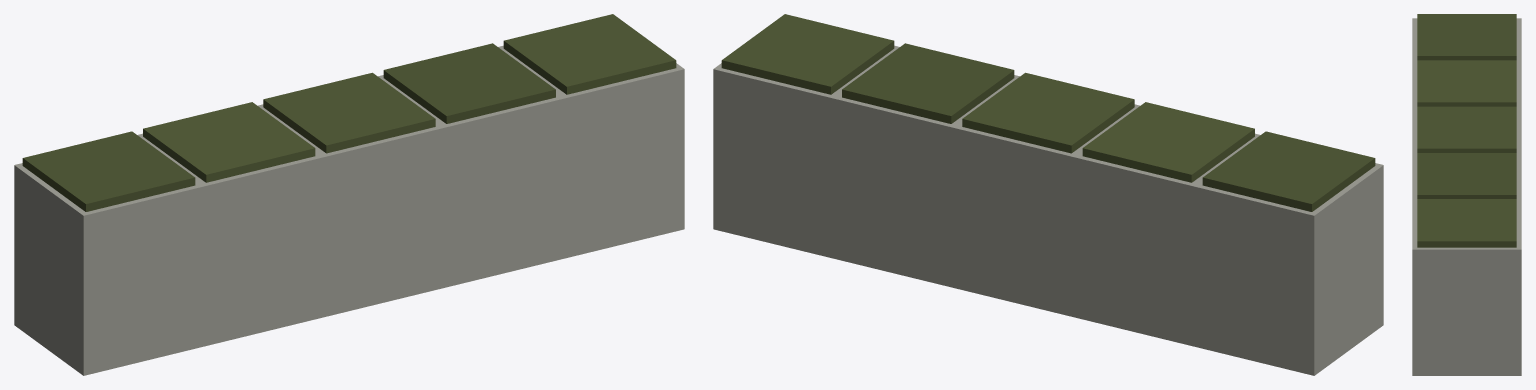
The model's file is gabion-row.glb.
3 views of the same model, side by side, from view 1: azimuth 30°, elevation 25°; view 2: azimuth 150°, elevation 25°; view 3: azimuth 270°, elevation 25° (orthographic). The views are drawn at different scales.
Visible parts, largest first — view 1: Piece_lod0; view 2: Piece_lod0; view 3: Piece_lod0.
Part boxes in pixels (bbox=[...]): Piece_lod0: bbox=[14, 14, 684, 375]; Piece_lod0: bbox=[713, 14, 1383, 375]; Piece_lod0: bbox=[1412, 14, 1521, 375].
Size of what is drawn, in the model's own units: 5.5 by 1.47 by 1.1.
